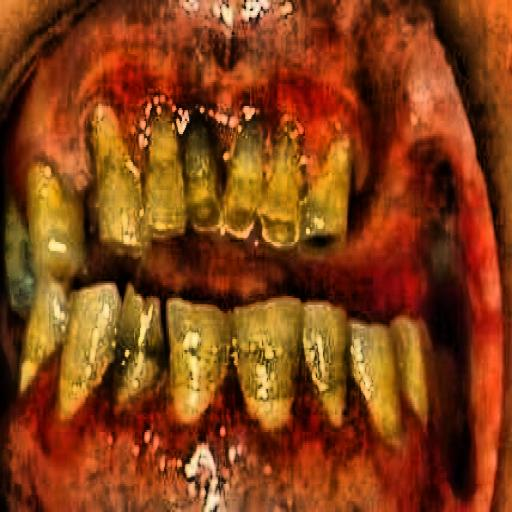Gingivitis: (0, 347, 475, 512)
